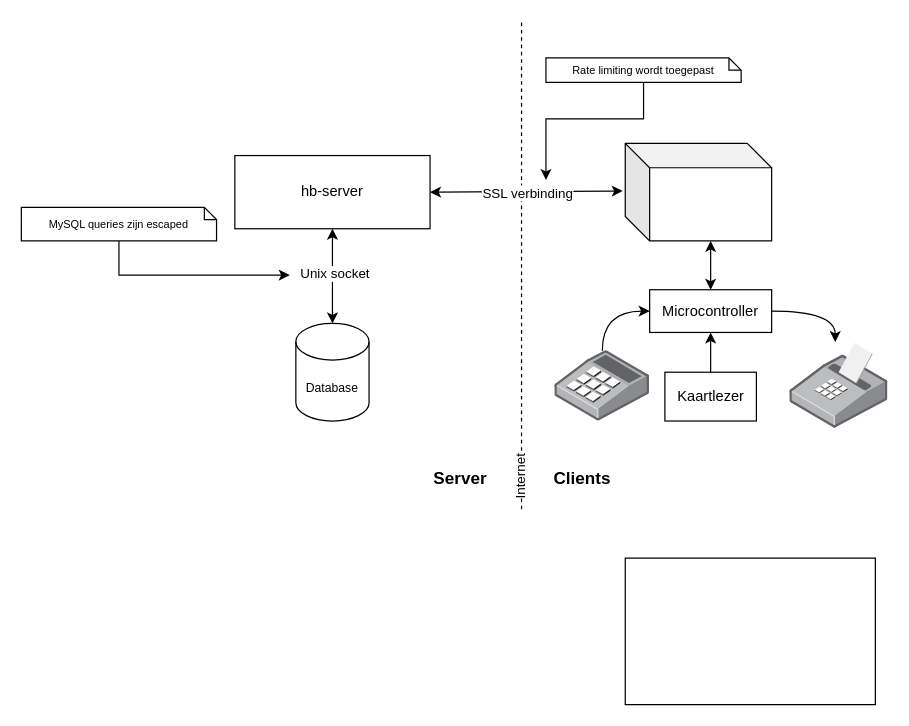
Image size: 909x726. Some labels were removed from this diagram. Here are the shapes that lost their labels. From the top down, the centre of each, then its label:
the point at 698,191: Geldautomaat
the point at 601,385: Keypad
the point at 838,385: Bonprinter
